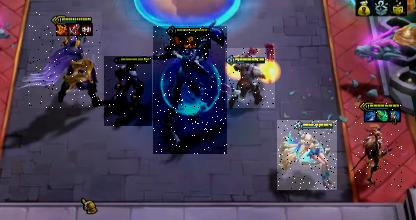1_sylas: (104, 56, 152, 126)
2_olaf: (225, 48, 275, 108)
2_seraphine: (277, 120, 337, 190)
2_syfen: (153, 26, 227, 154)
3_pantheon: (28, 12, 102, 108)
3_zyra: (354, 100, 402, 188)
